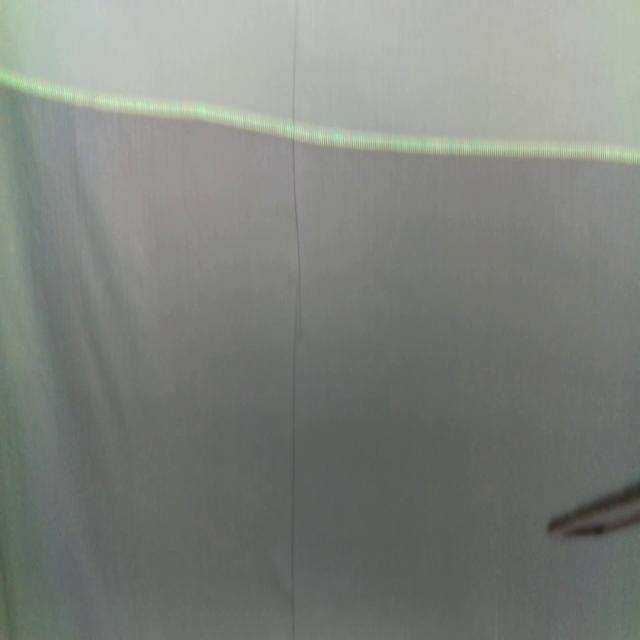crease: (289, 0, 303, 640)
